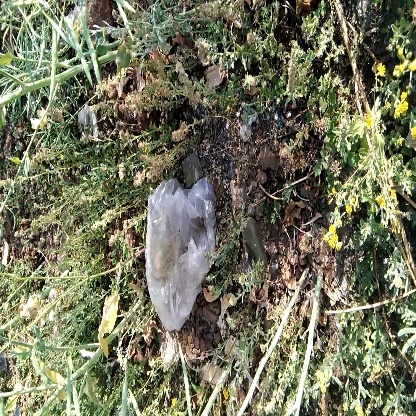plastic-bag: (135, 175, 226, 334)
